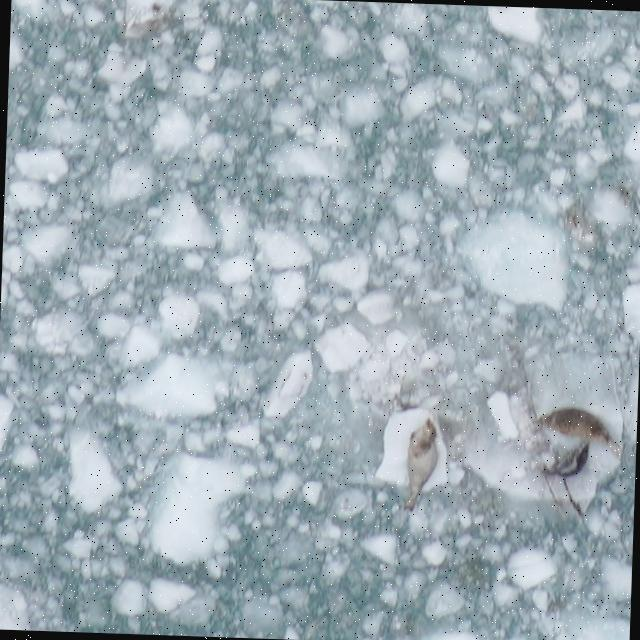seal: (527, 403, 628, 461), (398, 414, 446, 515), (538, 434, 595, 480)
